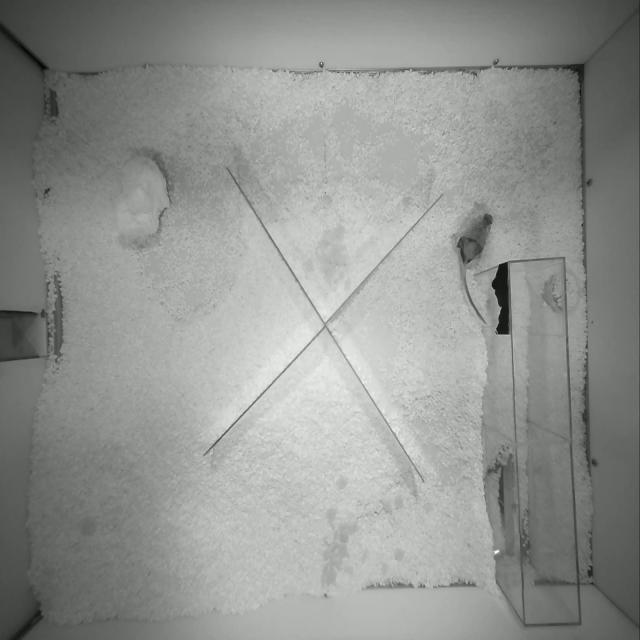adult_back: (456, 213, 492, 323)
